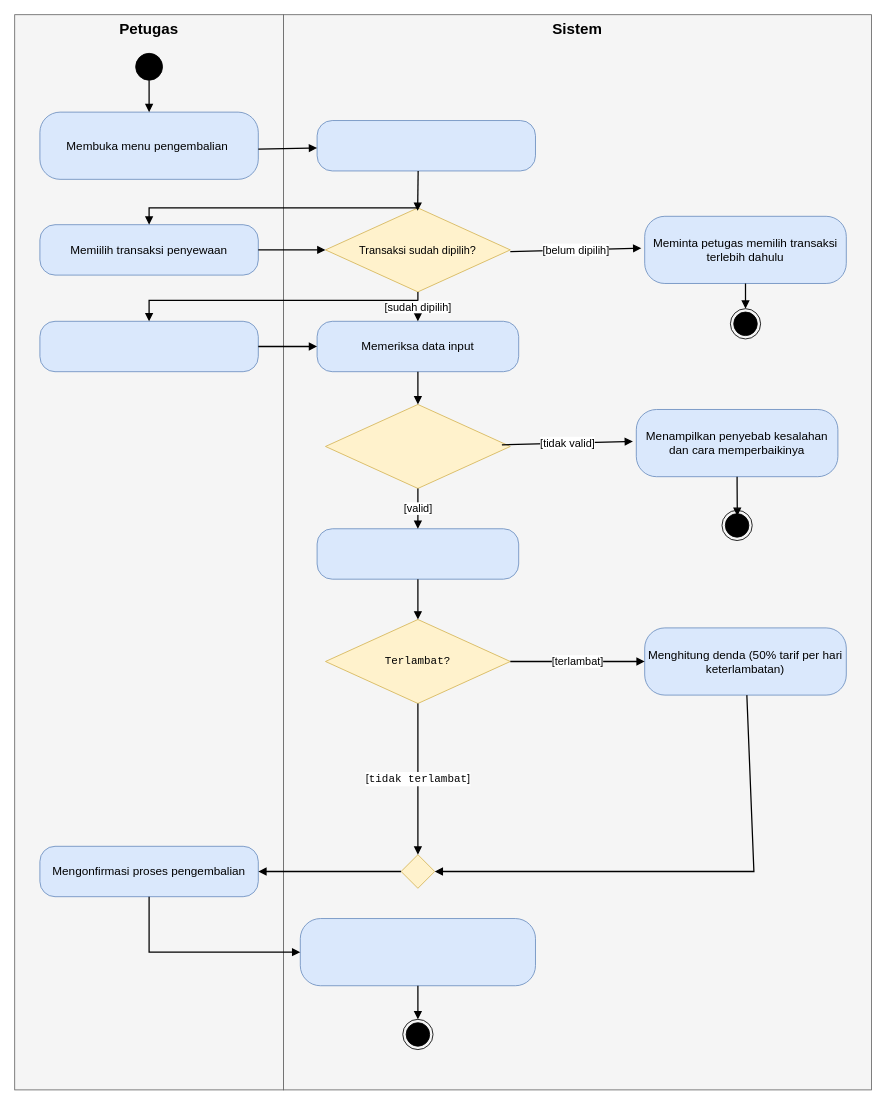
Image size: 886x1105. Some labels were removed from this diagram. The shapes that lost their labels are listed below. From the top down, each one's centre as x and y in pixels, then its label:
At (426,145): "Menampilkan daftar transaksi penyewaan aktif".
At (148,346): "Memasukkan tanggal kembali".
At (417,446): "Tanggal kembali valid?".
At (417,553): "Memeriksa keterlambatan".
At (417,952): "Menyimpan data pengembalian dan mengubah status kendaraan menjadi tersedia".
